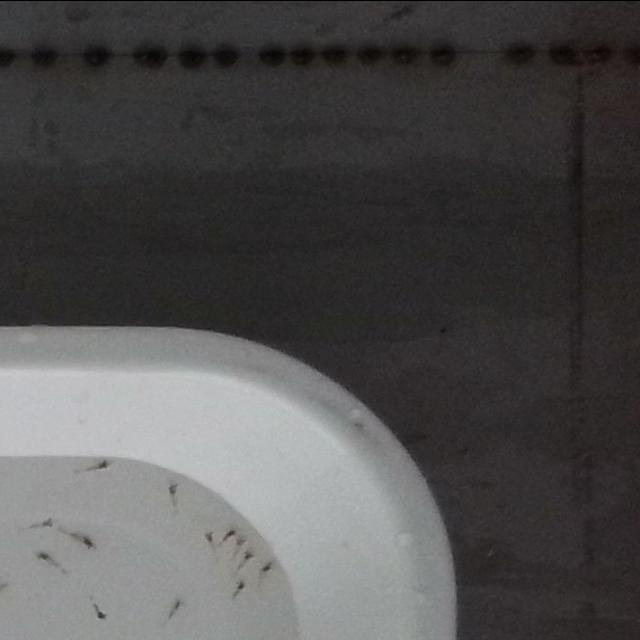shrimp-seed: (201, 528, 217, 546), (93, 606, 109, 622), (80, 534, 96, 550), (169, 596, 185, 610), (222, 526, 238, 540), (34, 548, 52, 560), (167, 480, 180, 496), (261, 558, 274, 574), (94, 458, 110, 470), (41, 516, 57, 528), (235, 580, 248, 594), (235, 535, 248, 548), (242, 550, 255, 562)
